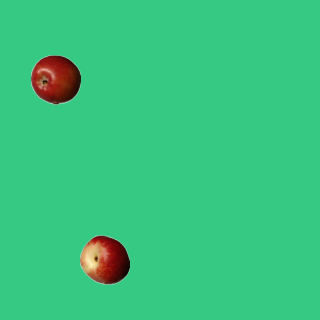Apple Braeburn: (30, 54, 80, 104)
Nectarine: (79, 234, 129, 284)
